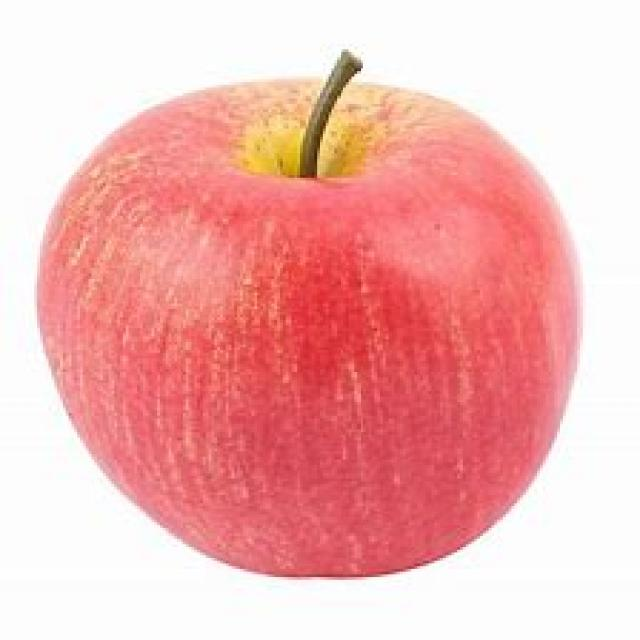Apple: (40, 46, 588, 592)
